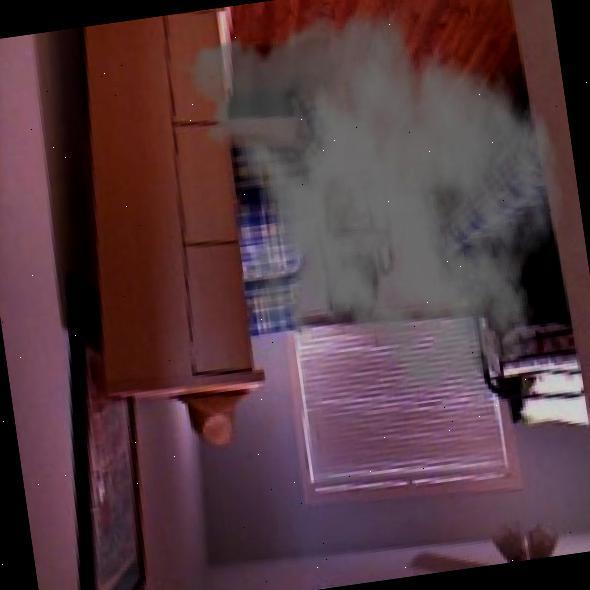smoke: (166, 0, 590, 440)
